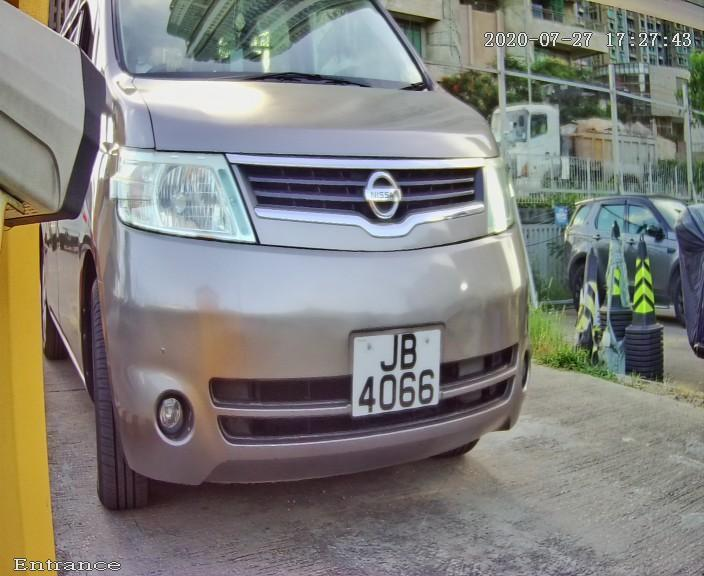privatecar: (51, 16, 579, 512)
